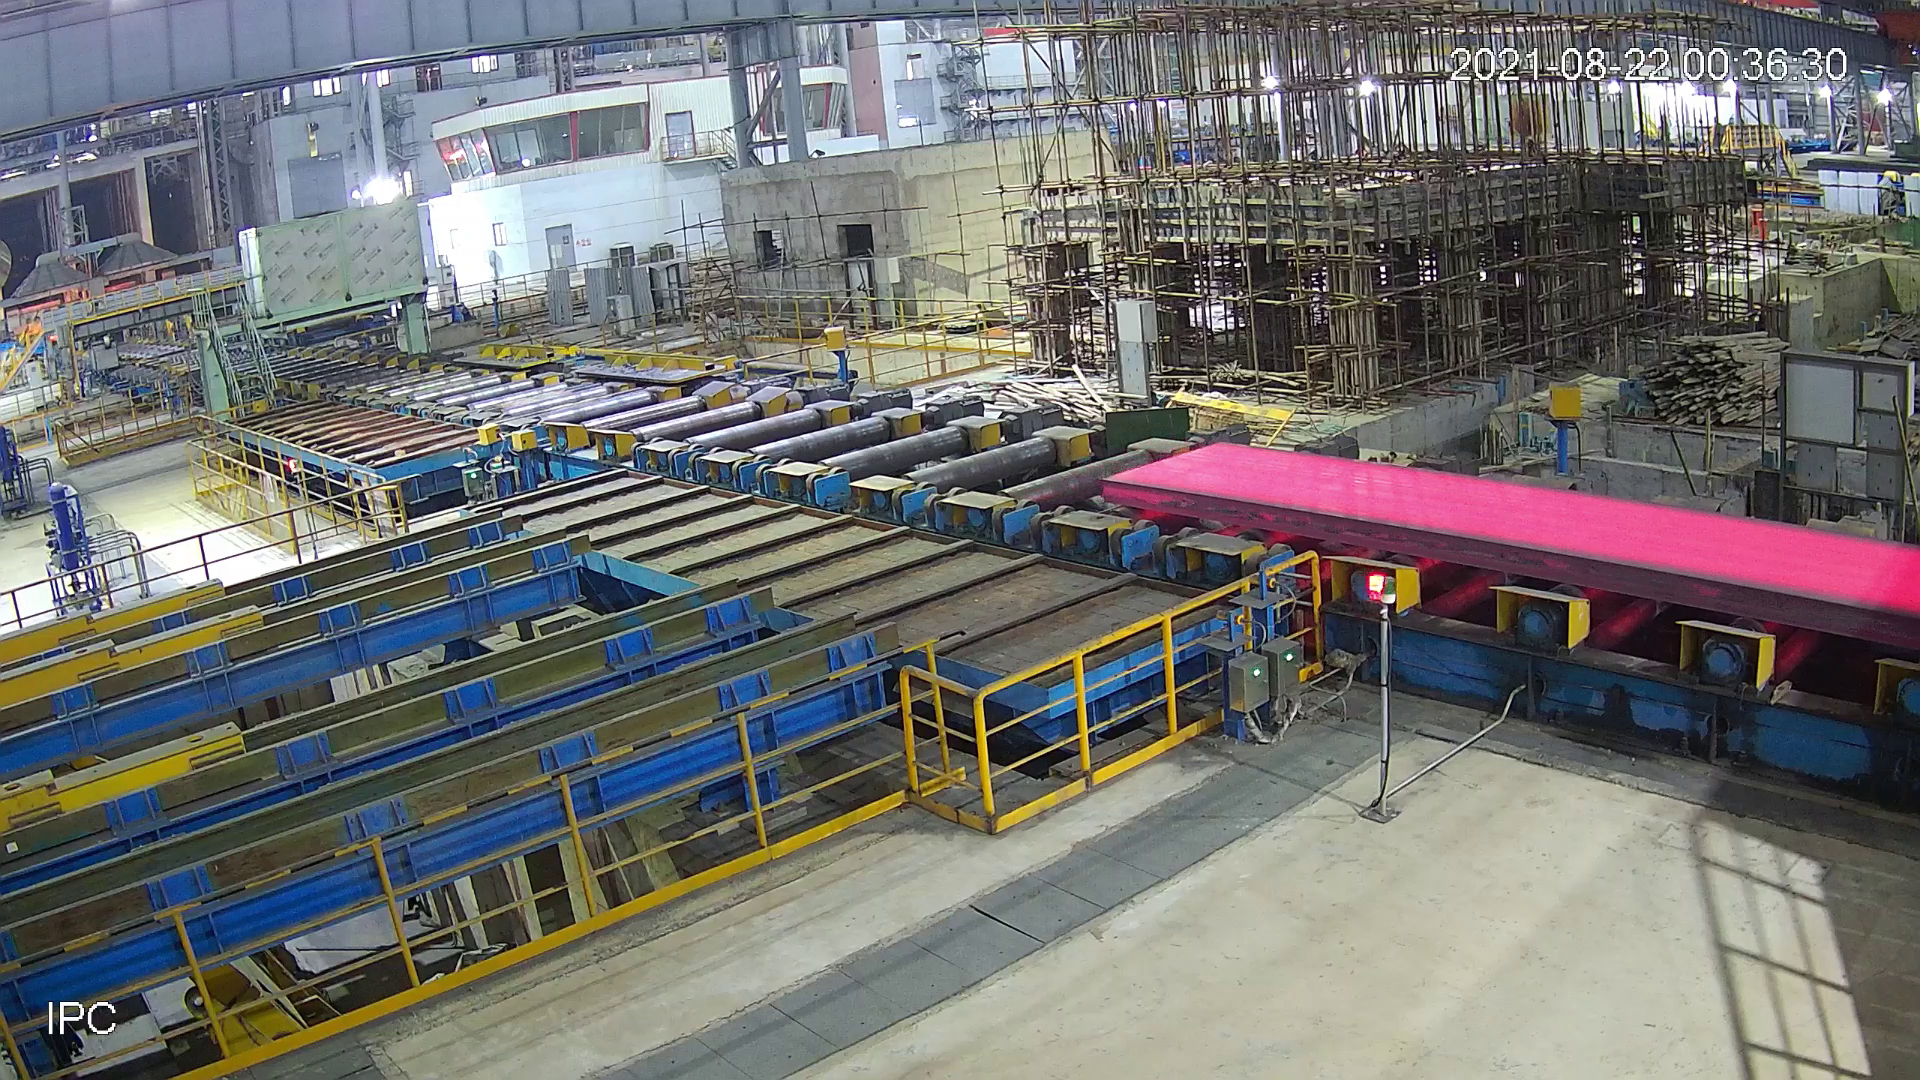slab: (1089, 433, 1920, 657)
